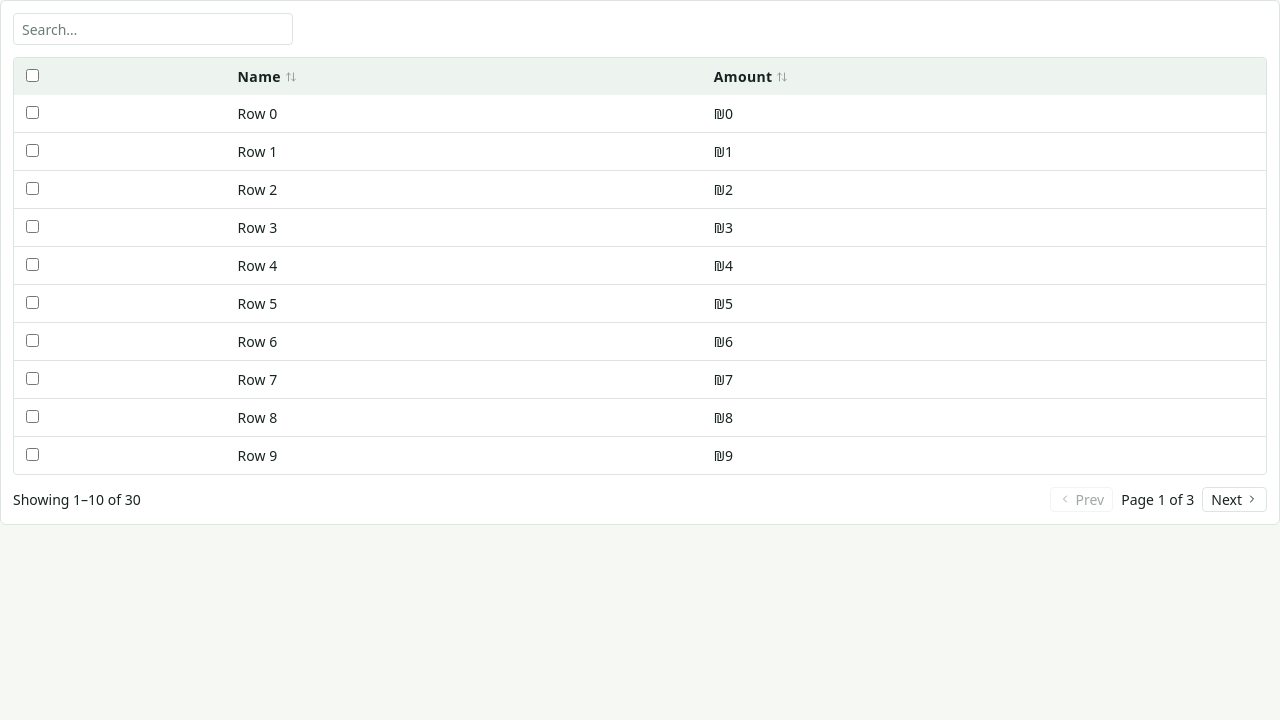
Scenario: DataTable — pagination › pages forward and back with the page controls
Expected: the text with test id "data-table-page-indicator" reads "Page 1 of 3", [1121,489,1194,510]
Expected: the row with test id "data-table-row-r0" is shown, [14,95,1266,132]
Click the button with test id "data-table-next" at (1235, 499), box [1202,487,1267,512]
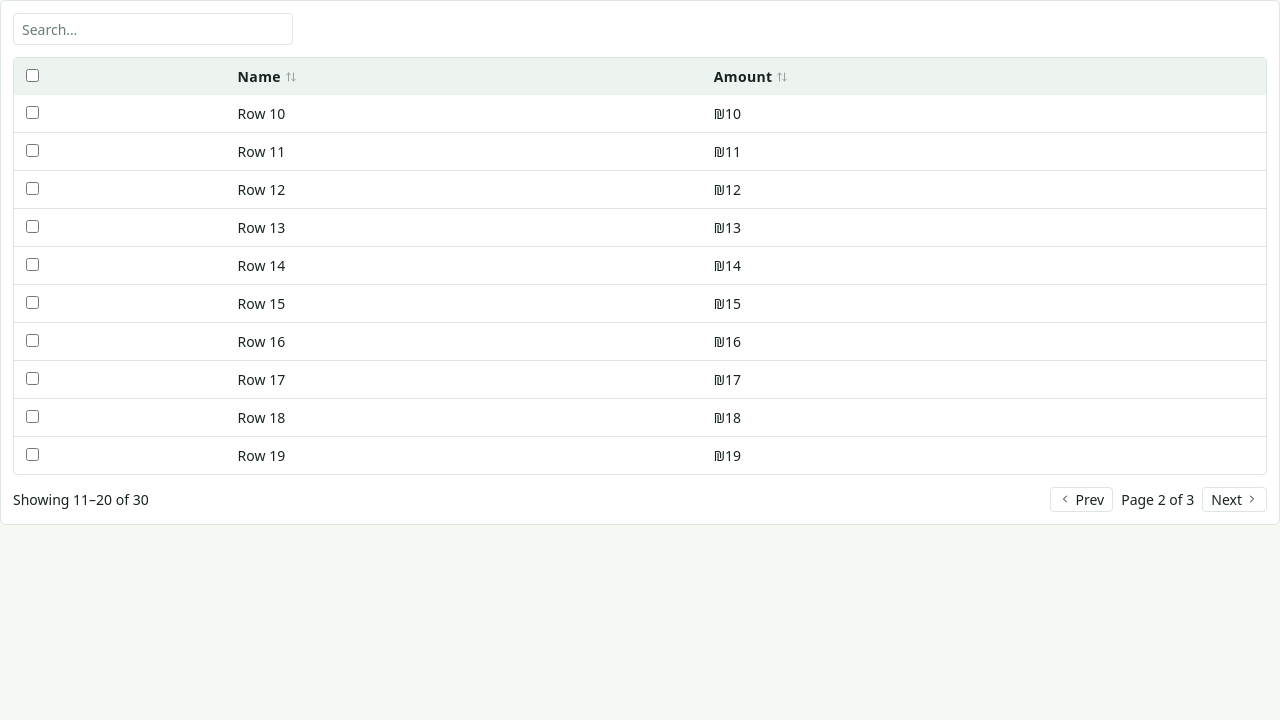
Now the text with test id "data-table-page-indicator" reads "Page 2 of 3", box [1121,489,1194,510]
Click the button with test id "data-table-next" at (1235, 499), box [1202,487,1267,512]
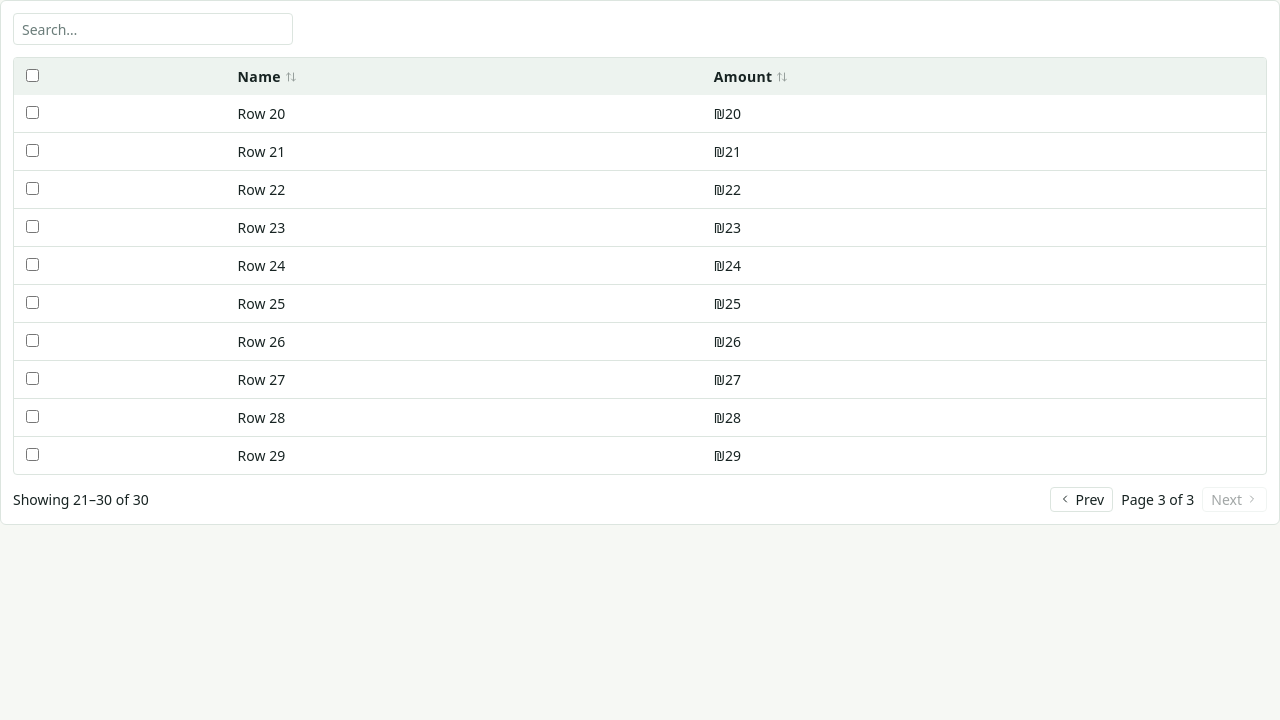
Now the text with test id "data-table-page-indicator" reads "Page 3 of 3", box [1121,489,1194,510]
Now the button with test id "data-table-next" is disabled, box [1202,487,1267,512]
Click the button with test id "data-table-prev" at (1082, 499), box [1050,487,1113,512]
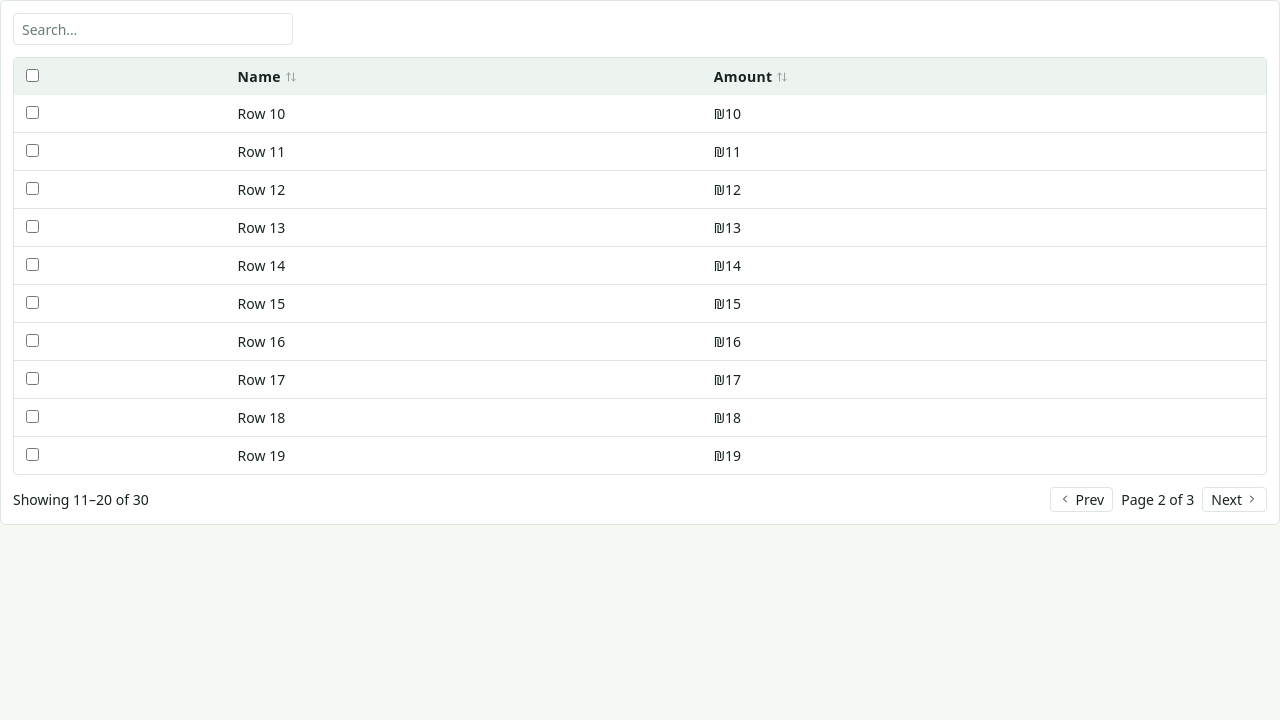
Now the text with test id "data-table-page-indicator" reads "Page 2 of 3", box [1121,489,1194,510]
